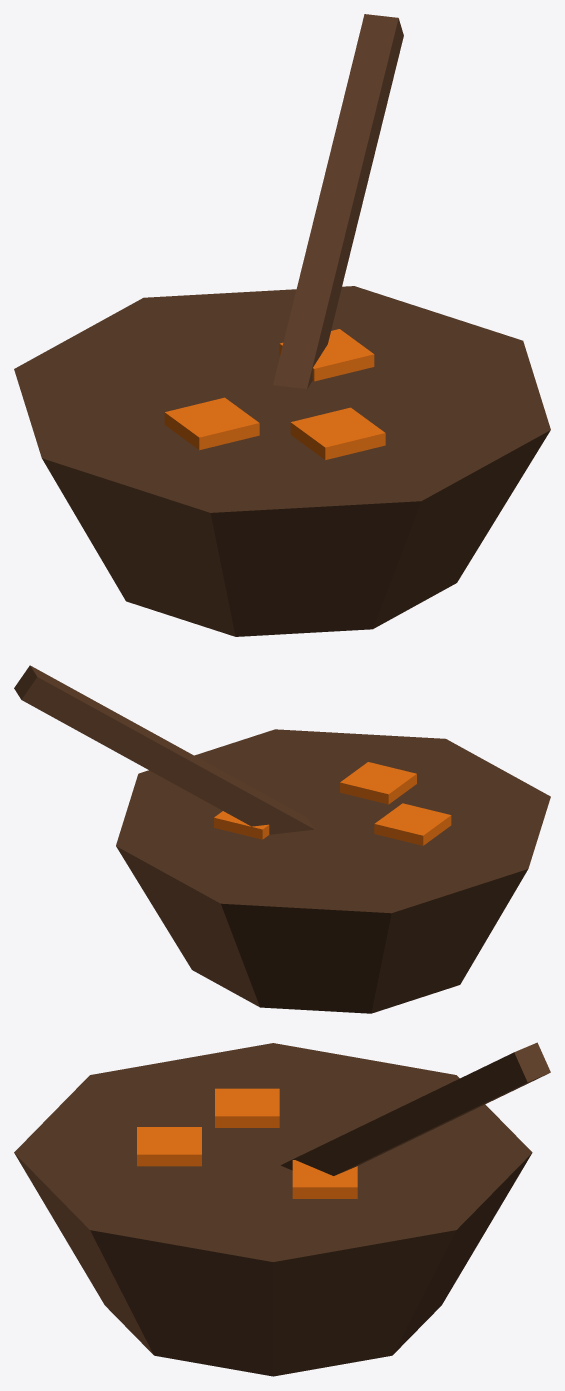
The model's file is hearty_stew.glb.
3 views of the same model, one above another, from view 1: azimuth 30°, elevation 25°; view 2: azimuth 150°, elevation 25°; view 3: azimuth 270°, elevation 25° (orthographic). The views are drawn at different scales.
Parts seen in each view (by area): view 1: hearty_stew; view 2: hearty_stew; view 3: hearty_stew.
Boxes of the visible parts, x1,y1,x2,y2 form: hearty_stew: [14, 14, 550, 636]; hearty_stew: [14, 665, 550, 1013]; hearty_stew: [14, 1042, 550, 1376].
Bounding box in the file's own units: 0.5177 × 0.388 × 0.5177.
